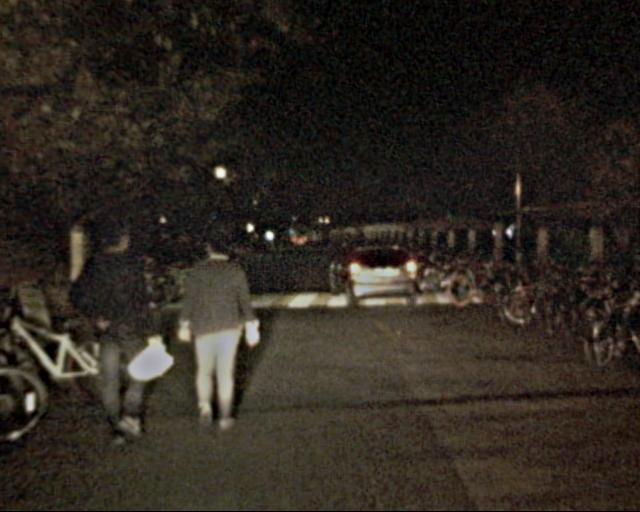person: (73, 214, 165, 446), (179, 231, 258, 428)
